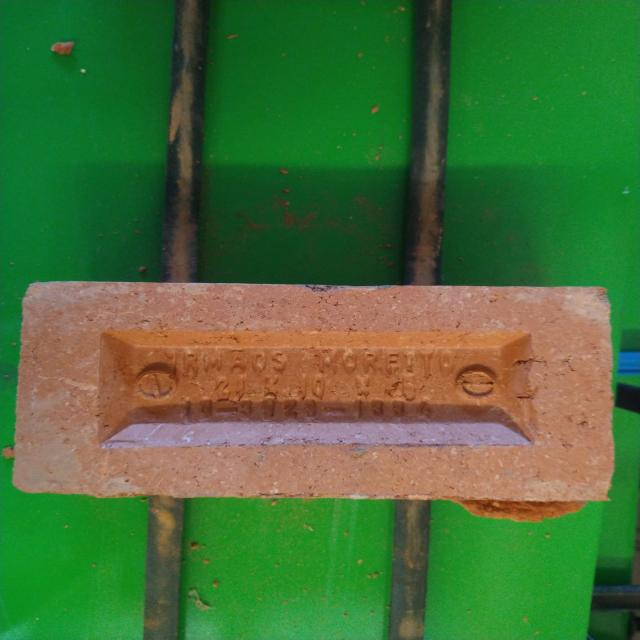bricks_ruin: (11, 281, 611, 520)
